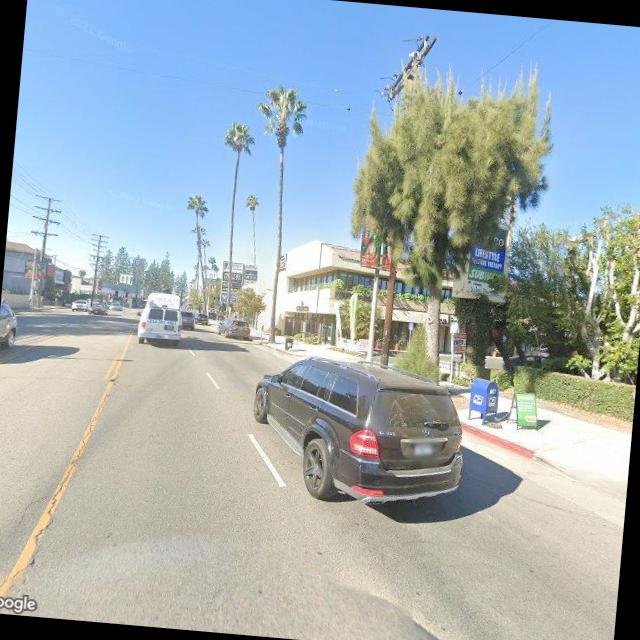crack: (0, 386, 110, 598)
